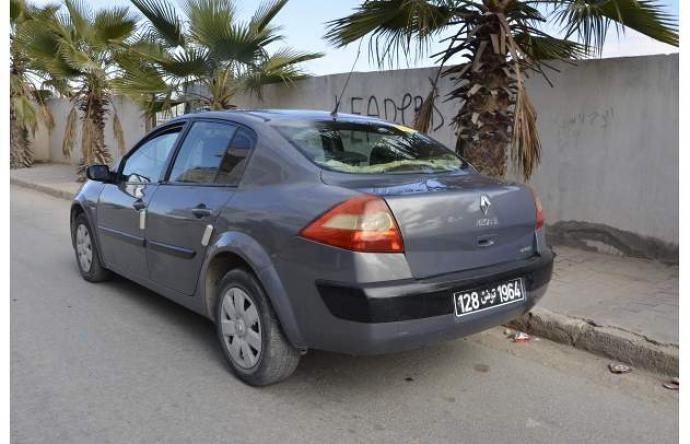LP: (450, 274, 532, 316)
